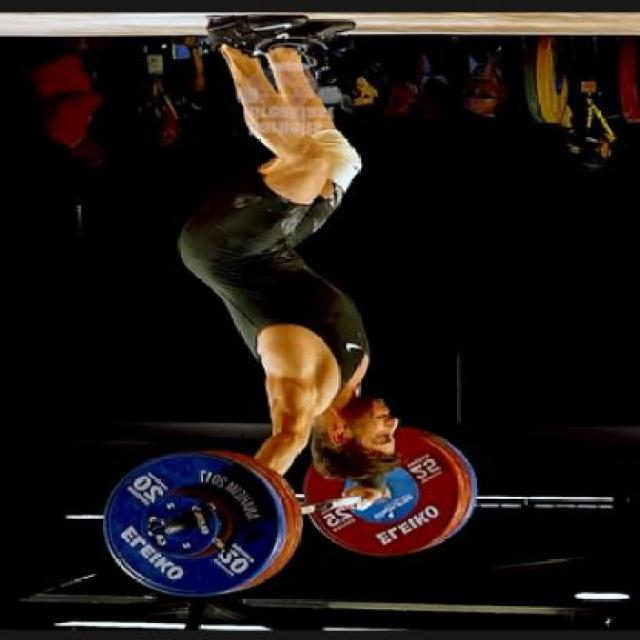Barbell: (139, 514, 176, 542)
